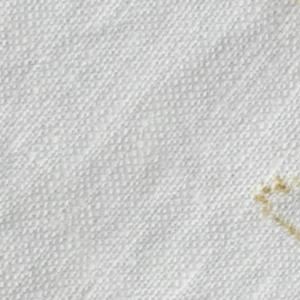Oil Stain: (250, 171, 300, 247)
